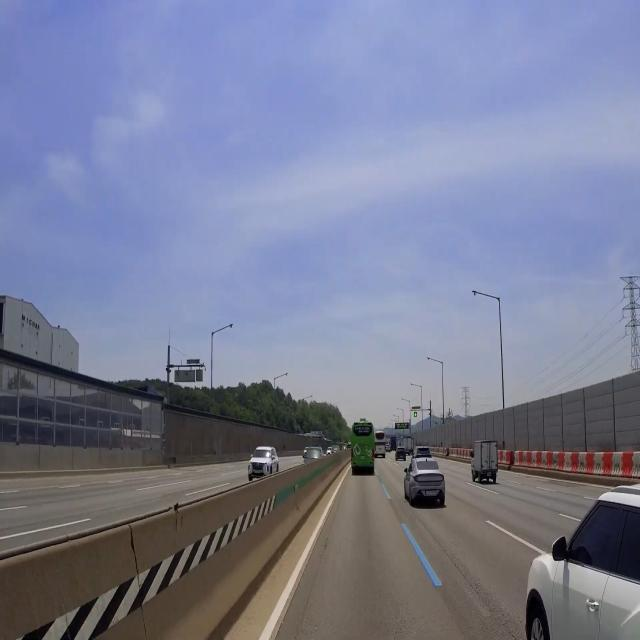car: (424, 487, 439, 499), (252, 466, 264, 478), (485, 470, 495, 482)
